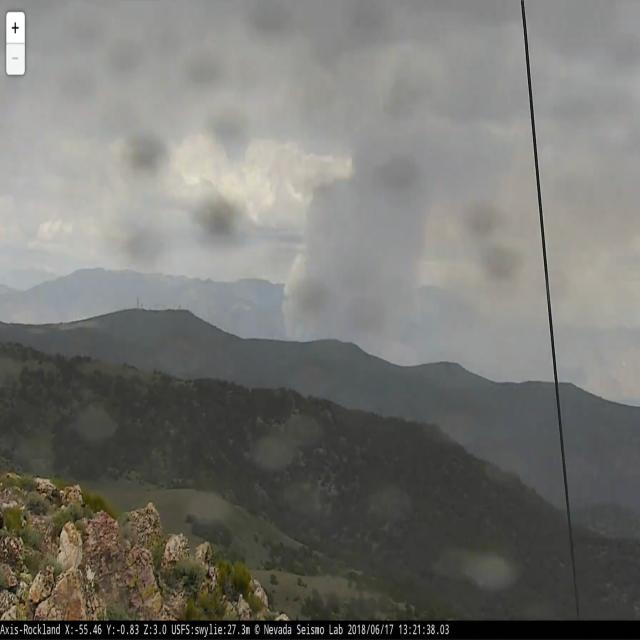smoke: (288, 169, 424, 335)
